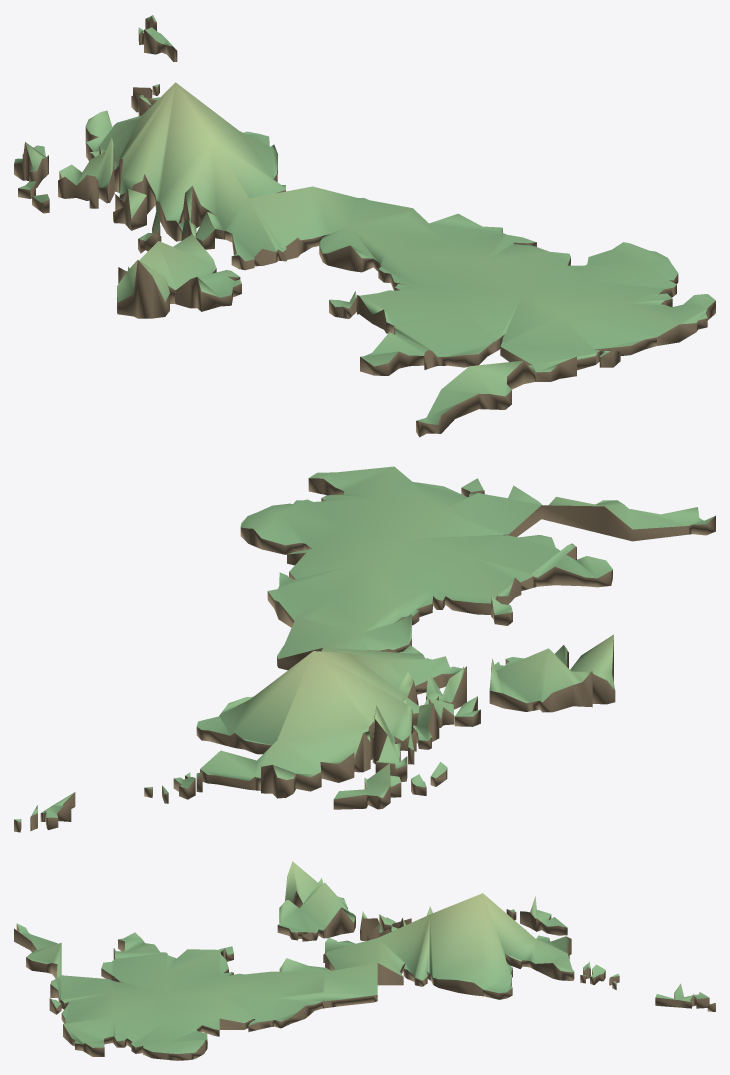
The model's file is GBR.glb.
The picture shows the model from 3 angles, top to bottom: view 1: azimuth 30°, elevation 25°; view 2: azimuth 150°, elevation 25°; view 3: azimuth 270°, elevation 25°; orthographic projection. The views are drawn at different scales.
Parts seen in each view (by area): view 1: GBR; view 2: GBR; view 3: GBR.
Boxes of the visible parts, left/top/right/bottom form: GBR: left=14, top=15, right=715, bottom=437; GBR: left=14, top=466, right=715, bottom=832; GBR: left=14, top=861, right=715, bottom=1060.
Bounding box in the file's own units: 0.9839 × 0.199 × 1.81.
